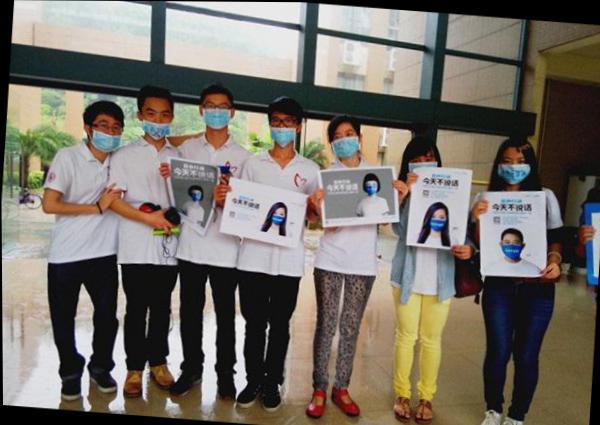OK: (406, 150, 442, 185), (329, 125, 362, 161), (501, 150, 532, 186), (203, 95, 233, 131), (504, 236, 524, 258), (429, 211, 447, 232), (273, 211, 287, 225), (366, 181, 379, 196)
WRONG: (86, 113, 125, 153), (141, 97, 174, 141), (268, 112, 300, 148)
